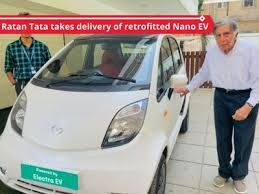Nano: (8, 35, 189, 194)
